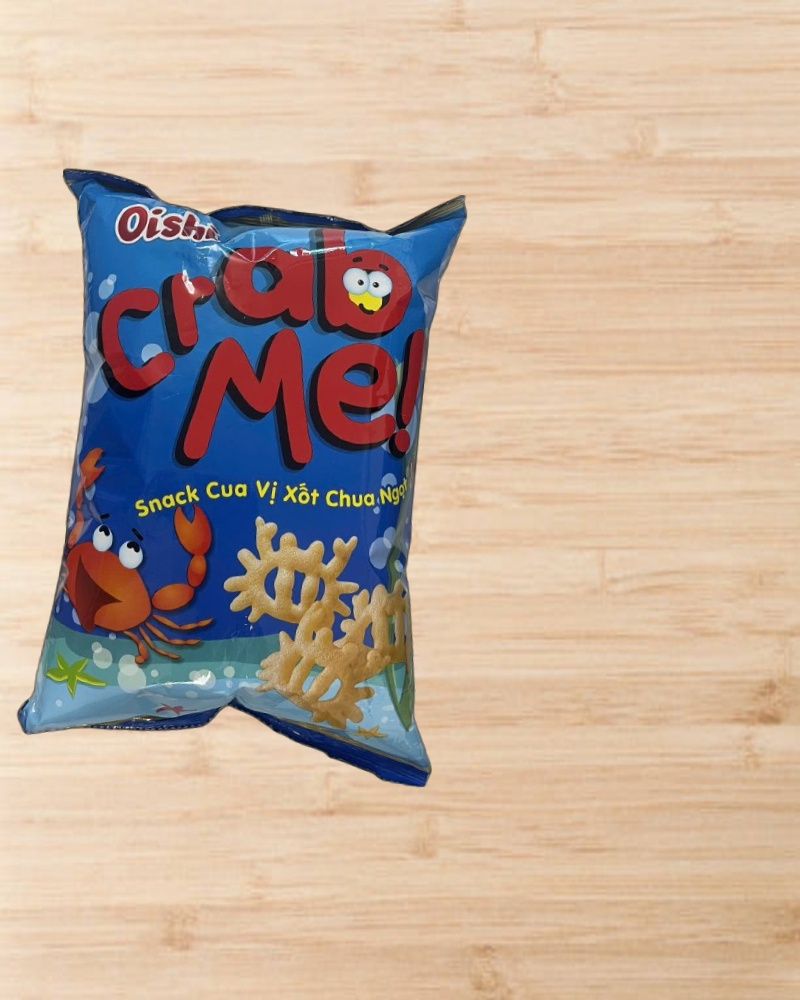Snack chay: (13, 161, 481, 790)
